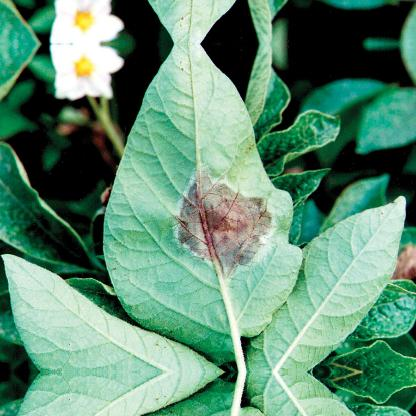Late-Blight: (126, 77, 296, 356)
